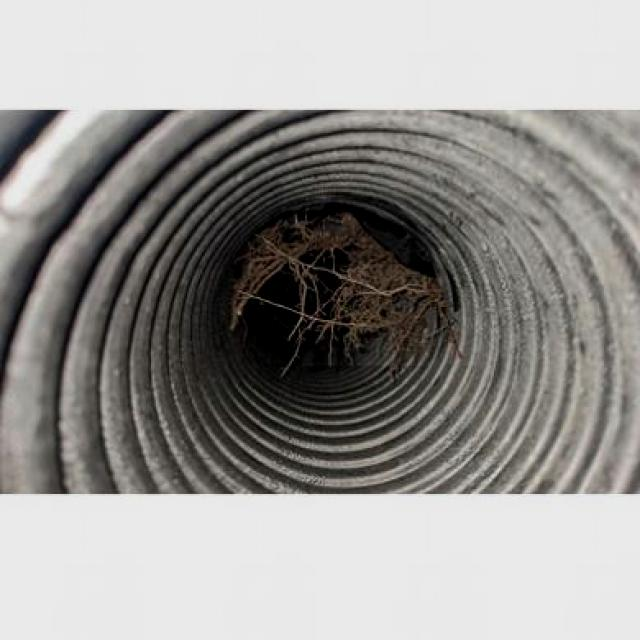root: (235, 217, 455, 365)
